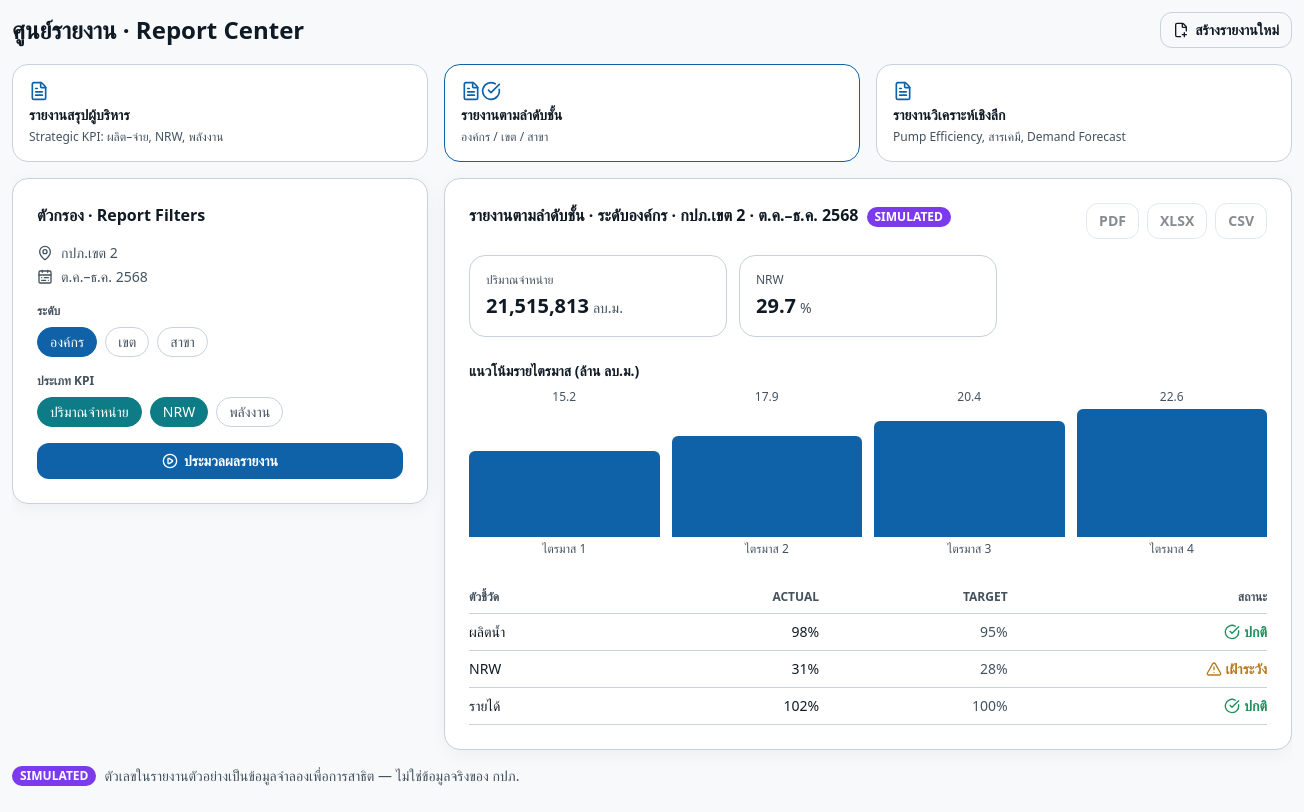
Test: ReportCenterScreen › holds KPI-type chip changes as pending until ประมวลผลรายงาน applies them
Expected: the element with test id "report-kpi-volume" is shown, top-left (469, 255), bottom-right (727, 337)
Expected: the element with test id "report-kpi-nrw" is shown, top-left (739, 255), bottom-right (997, 337)
Click the button "พลังงาน": {"x": 250, "y": 412} top-left (216, 397), bottom-right (283, 427)
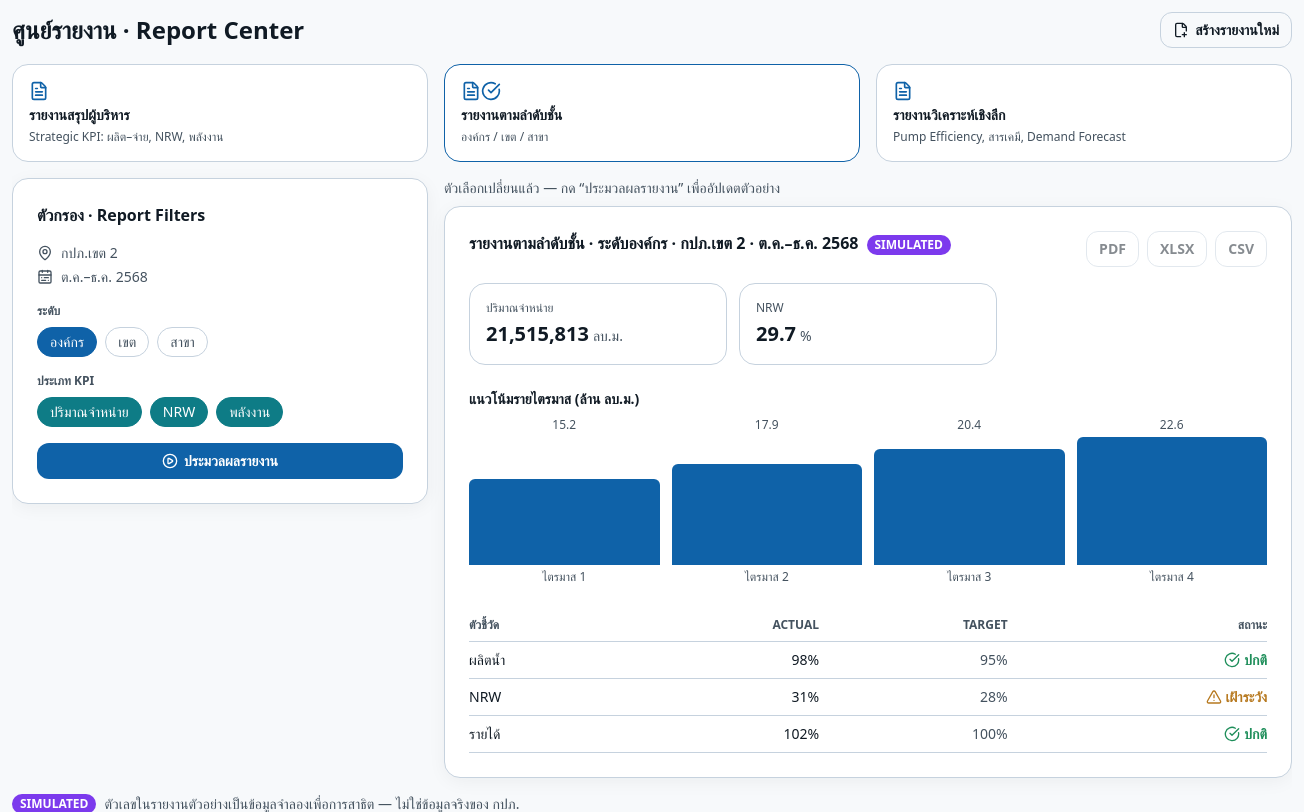
Expected: the message "ตัวเลือกเปลี่ยนแล้ว — กด “ประมวลผลรายงาน” เพื่ออัปเดตตัวอย่าง" is shown, top-left (444, 178), bottom-right (780, 197)
Click the button "ประมวลผลรายงาน": {"x": 220, "y": 461} top-left (37, 443), bottom-right (403, 479)
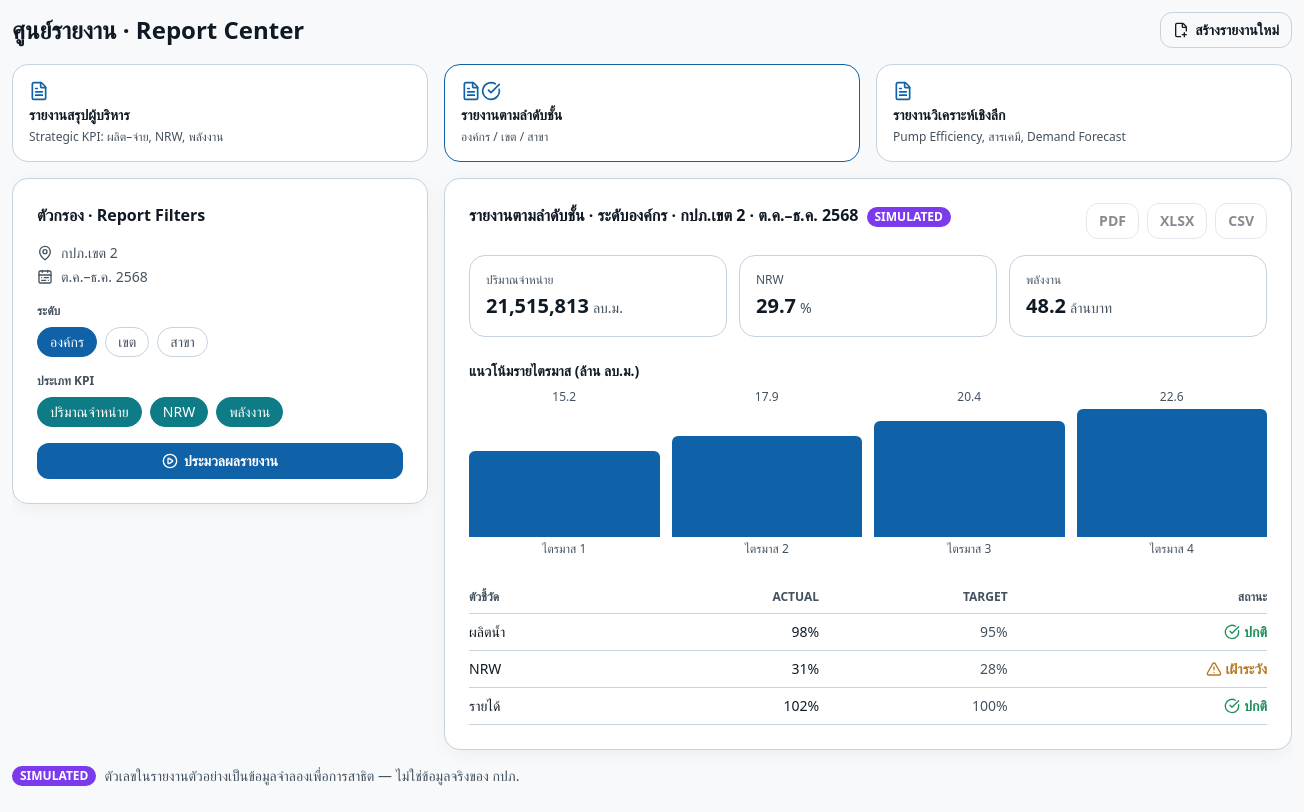
Expected: the element with test id "report-kpi-energy" is shown, top-left (1009, 255), bottom-right (1267, 337)
Expected: the message with test id "report-dirty" is gone
Click the button "ปริมาณจำหน่าย": {"x": 89, "y": 412} top-left (37, 397), bottom-right (142, 427)
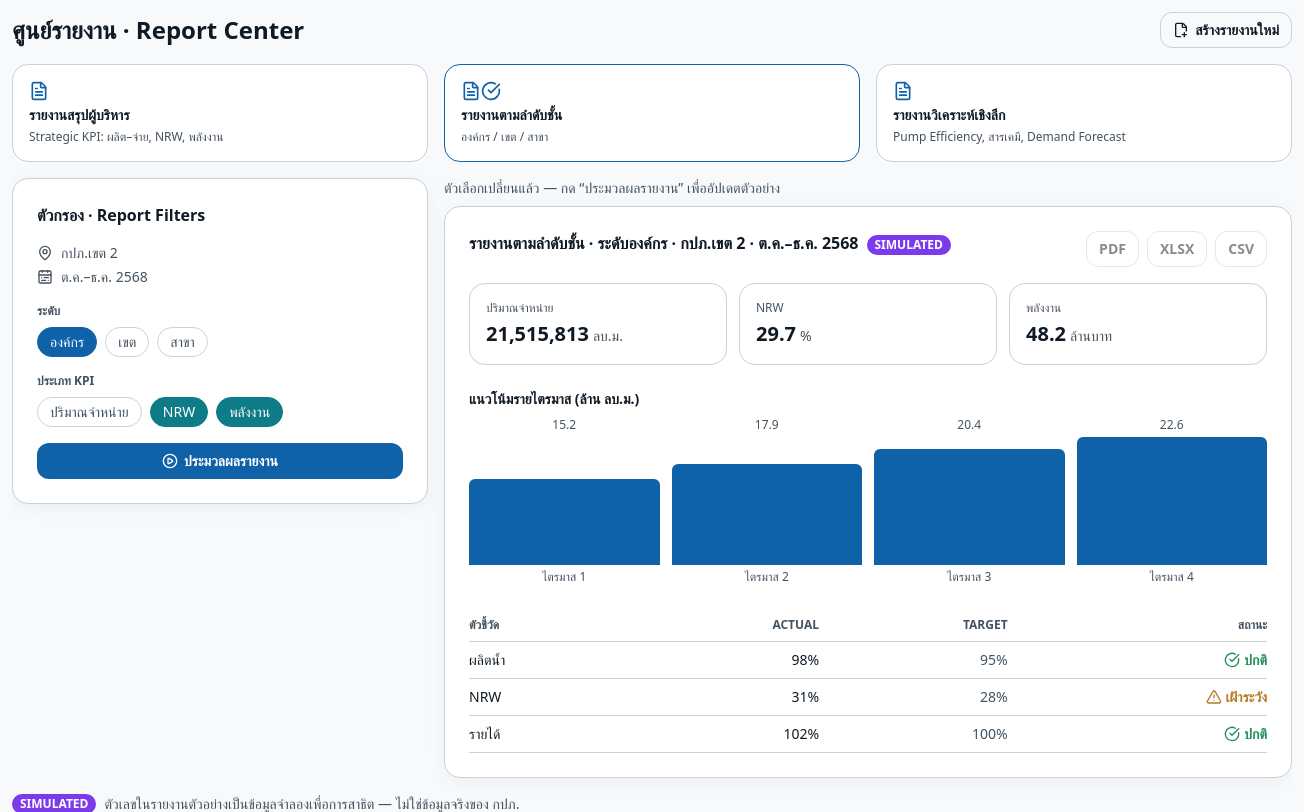
Click the button "ประมวลผลรายงาน": {"x": 220, "y": 461} top-left (37, 443), bottom-right (403, 479)
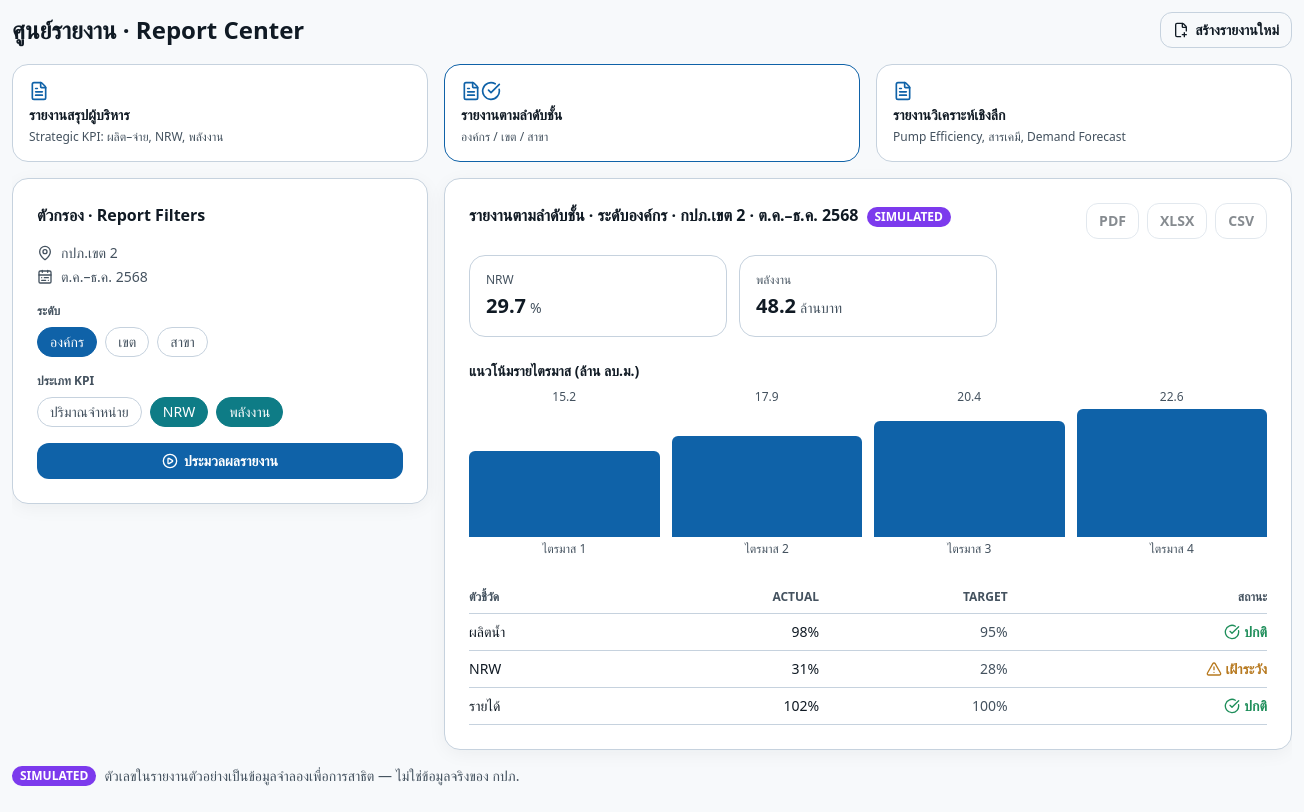
Expected: the element with test id "report-kpi-volume" is gone
